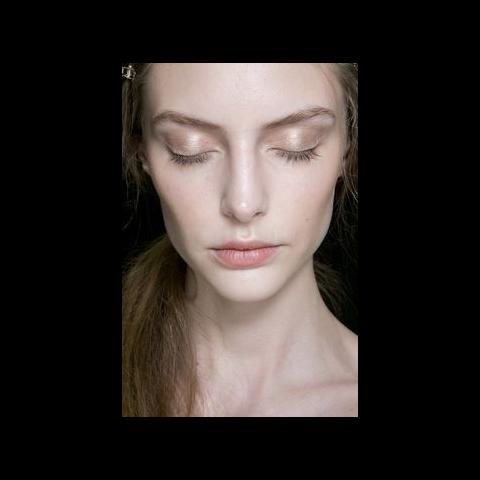closed: (152, 100, 338, 176)
